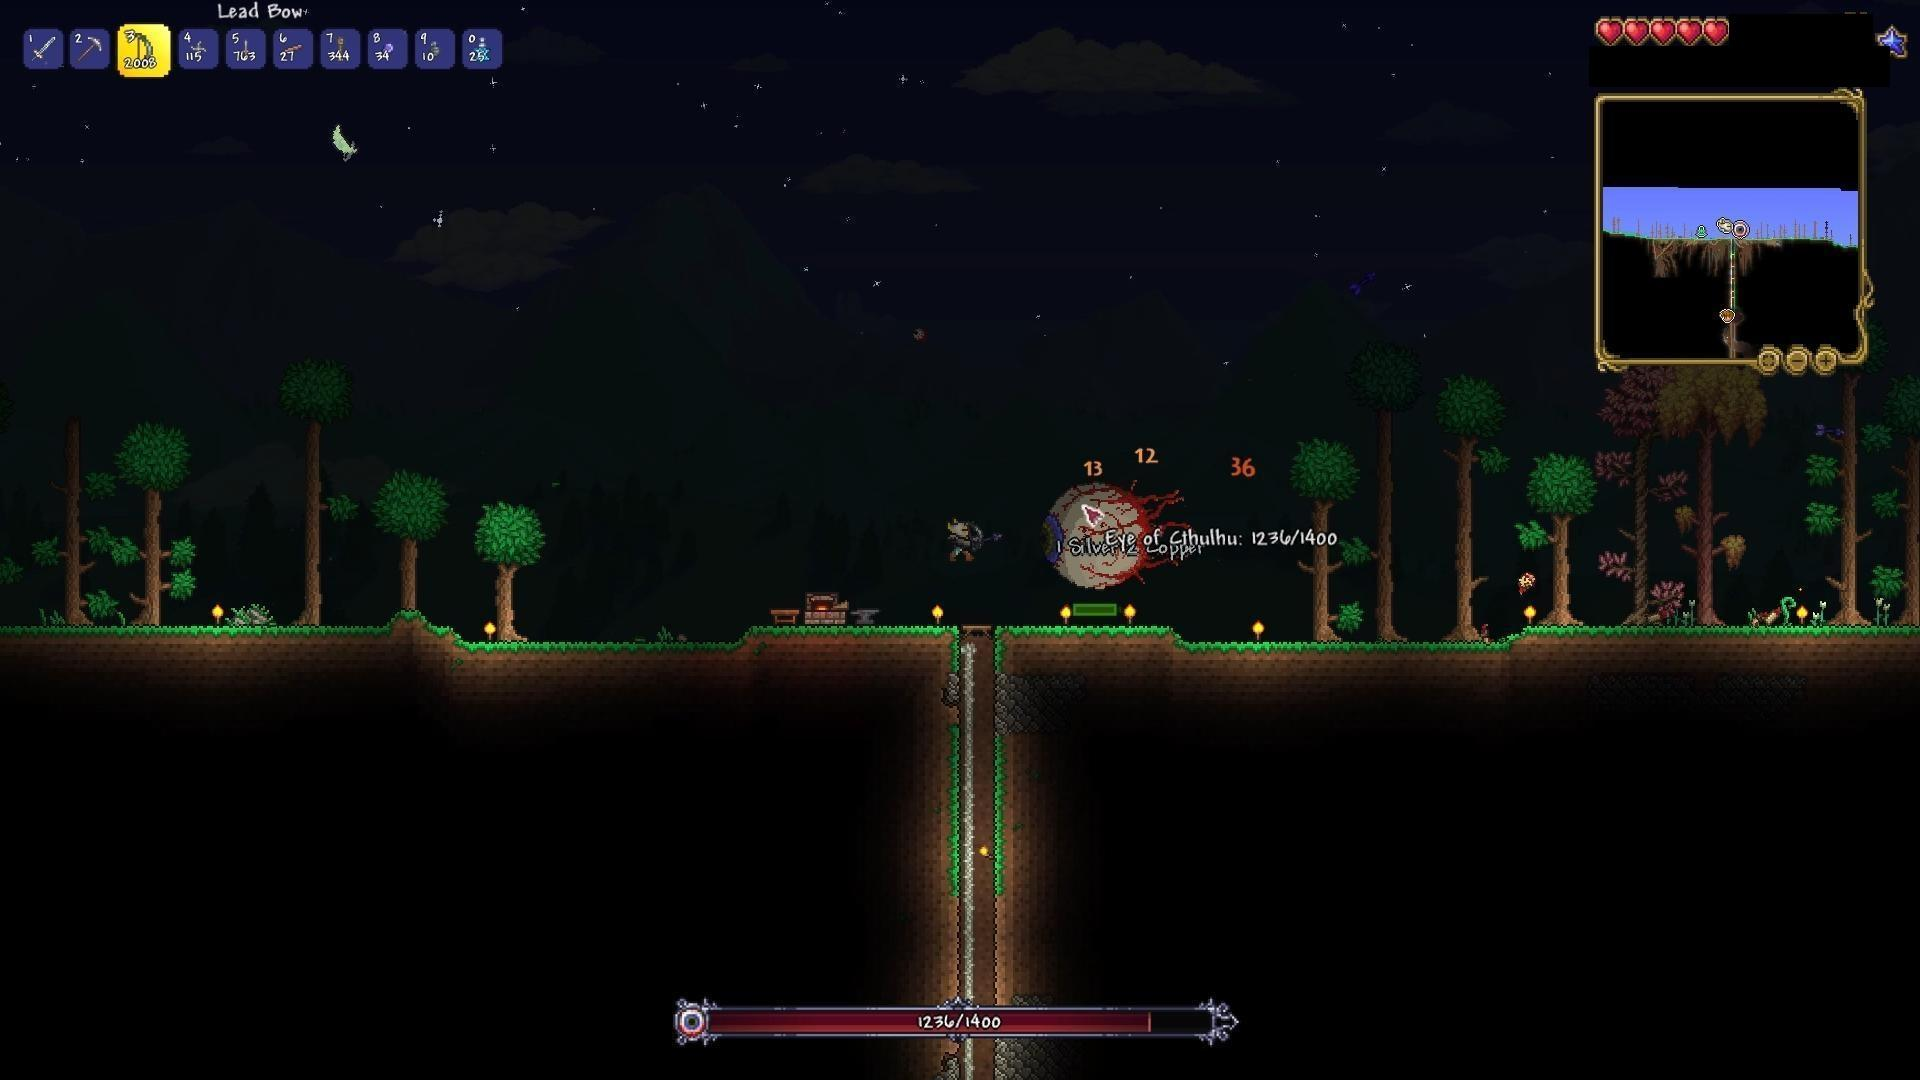dirt: (0, 613, 965, 669), (992, 613, 1920, 666), (911, 702, 968, 997), (989, 724, 1014, 1009)
heart: (1702, 17, 1733, 51), (1593, 16, 1626, 46), (1676, 15, 1704, 50), (1650, 16, 1676, 49), (1625, 15, 1651, 44)
stone: (990, 669, 1038, 731), (993, 1035, 1017, 1080), (952, 1050, 960, 1080)
tree: (1606, 353, 1684, 620), (1683, 372, 1760, 632), (1429, 375, 1505, 636), (1812, 392, 1869, 644), (291, 360, 336, 620), (123, 429, 185, 612), (1298, 443, 1350, 637), (1531, 451, 1589, 621), (476, 505, 543, 640), (373, 473, 435, 608)
